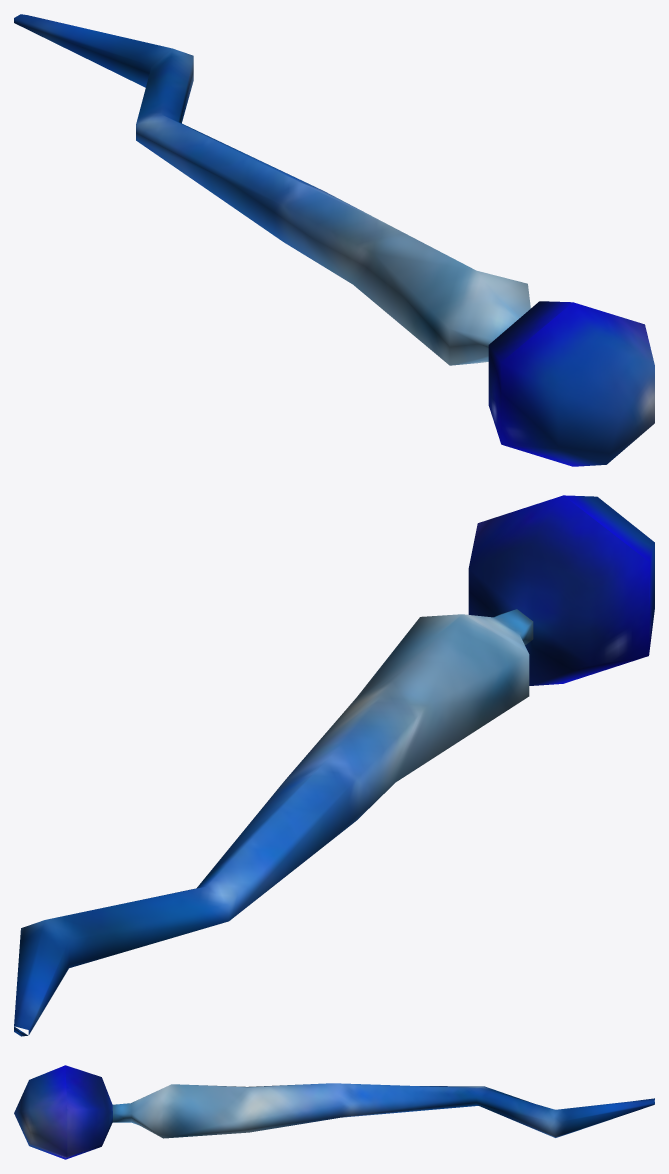
The model's file is standardWand.glb.
The picture shows the model from 3 angles, top to bottom: view 1: azimuth 30°, elevation 25°; view 2: azimuth 150°, elevation 25°; view 3: azimuth 270°, elevation 25°; orthographic projection. The views are drawn at different scales.
Parts seen in each view (by area): view 1: standardWand; view 2: standardWand; view 3: standardWand.
Boxes of the visible parts, x1=… form: standardWand: x1=14, y1=14, x2=654, y2=466; standardWand: x1=14, y1=495, x2=654, y2=1036; standardWand: x1=14, y1=1065, x2=654, y2=1159.
Size of the model in its own units: 0.1278 by 0.137 by 0.8418.
1 material, 1 textured.
